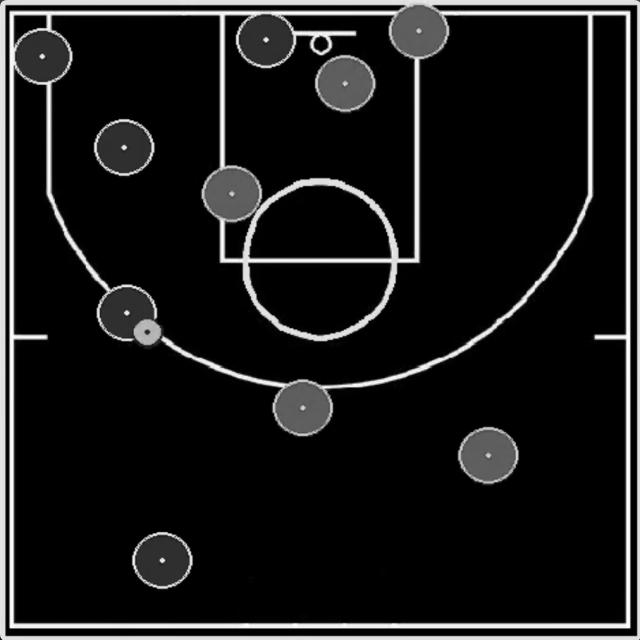Basketball: (133, 319, 162, 349)
Team_A: (235, 12, 297, 69), (132, 532, 193, 589), (94, 119, 154, 176), (97, 285, 157, 341), (15, 29, 72, 85)
Team_B: (202, 165, 262, 222), (388, 2, 448, 59), (315, 55, 375, 112), (458, 428, 519, 484), (273, 380, 333, 436)
